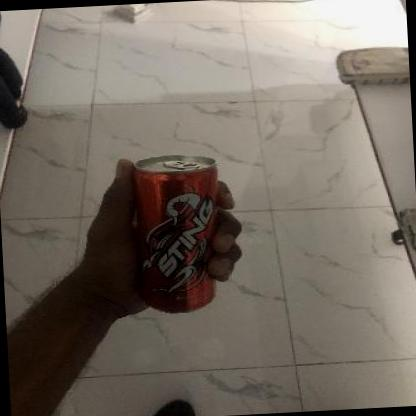alumunium_can: (131, 150, 227, 316)
